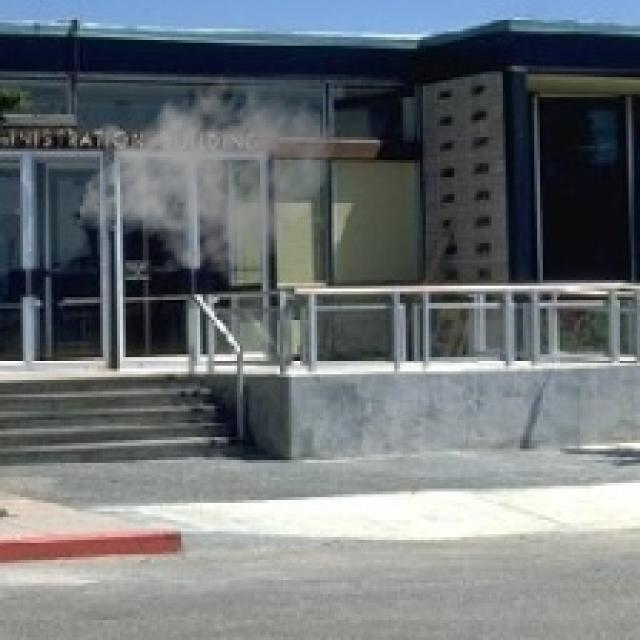smoke: (77, 66, 337, 283)
